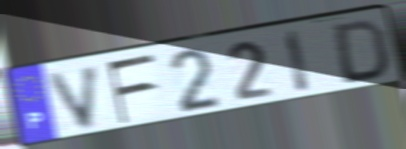2: (167, 46, 223, 116), (225, 38, 276, 103)
D: (332, 17, 391, 87)
F: (104, 52, 158, 127)
I: (283, 27, 314, 96)
V: (45, 61, 104, 132)
